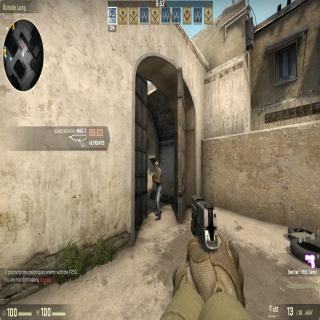T-Body: (153, 160, 162, 221)
T-Head: (154, 160, 159, 170)
